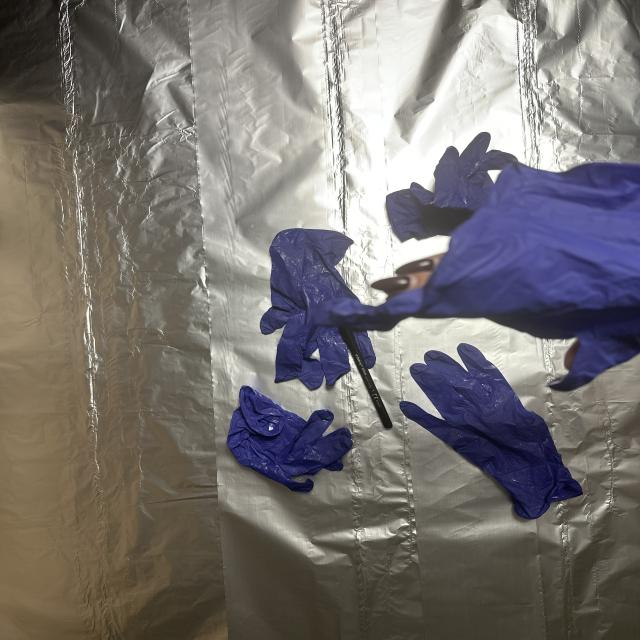glove_not_fitted: (357, 150, 640, 378)
